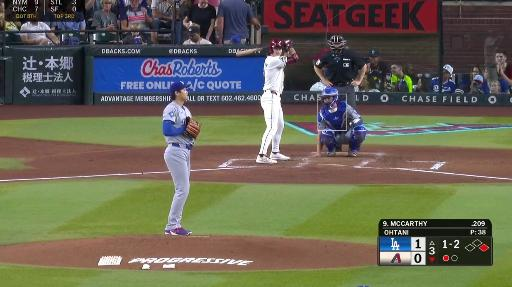pitcher: (161, 82, 202, 238)
